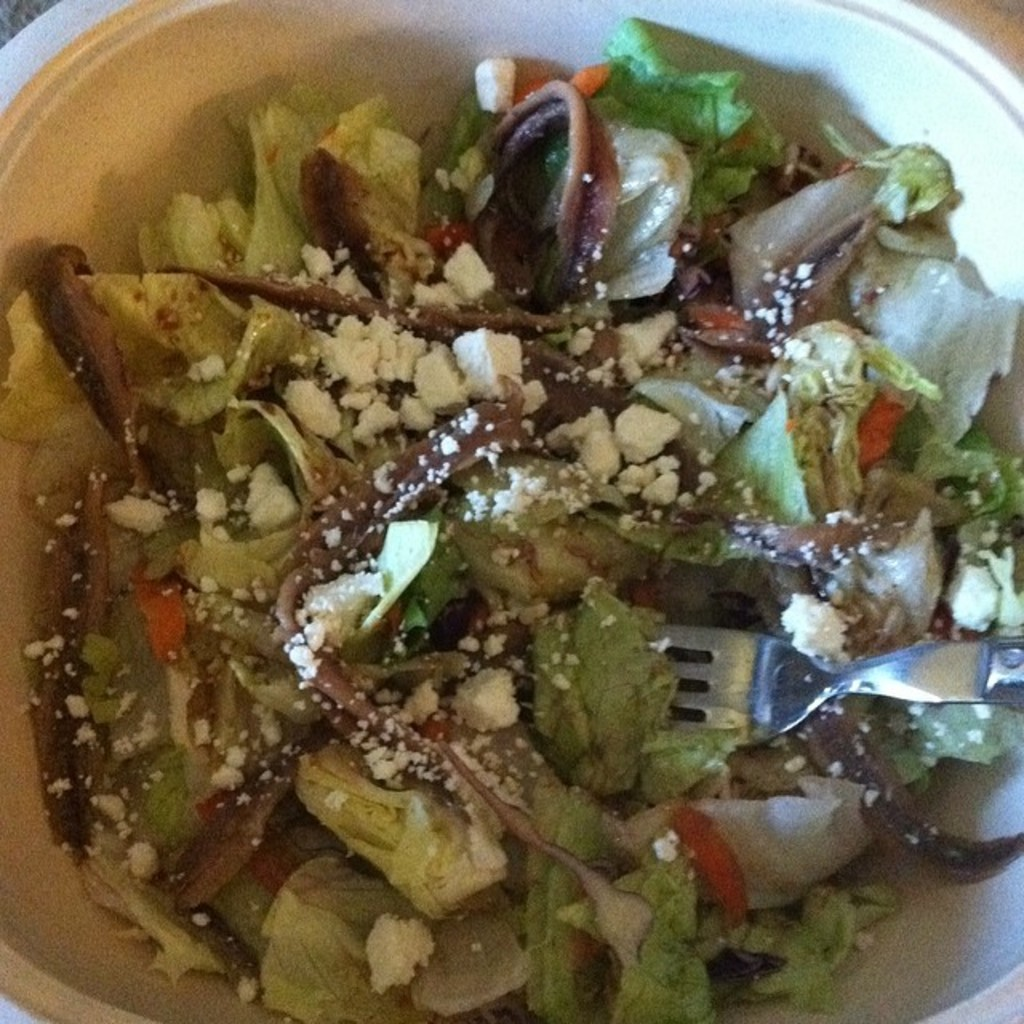salad: (0, 11, 1022, 1022)
